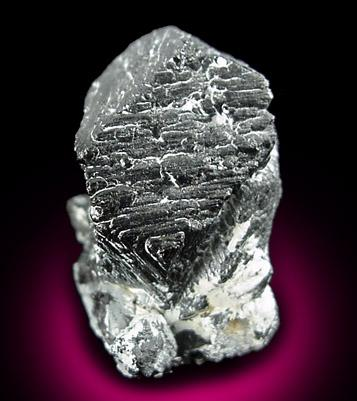magnetite: (75, 26, 282, 307)
